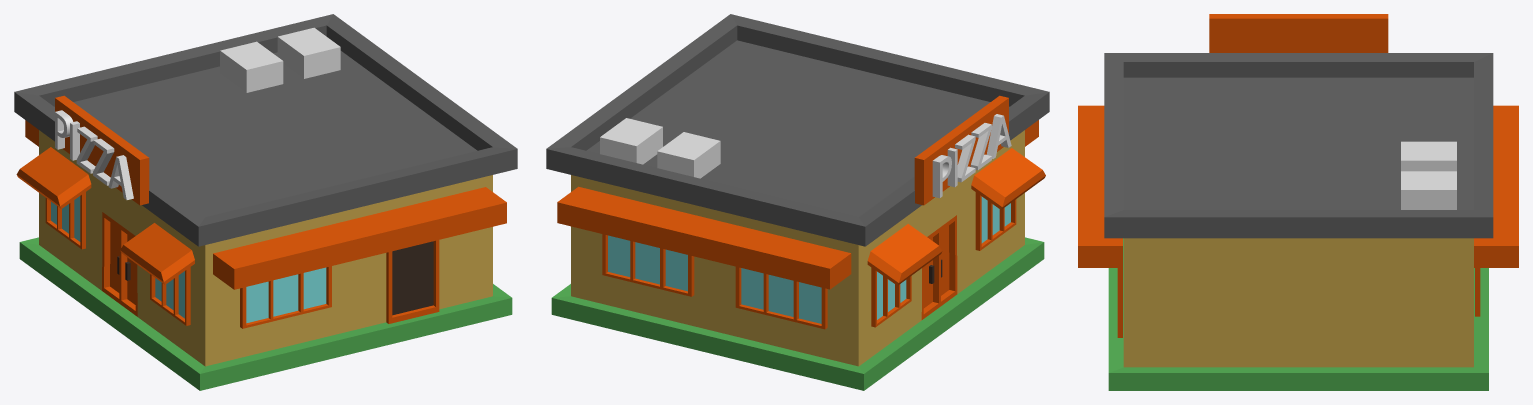
File: Pizza Shop FBX.fbx
The picture shows the model from 3 angles, left to right: view 1: azimuth 30°, elevation 25°; view 2: azimuth 150°, elevation 25°; view 3: azimuth 270°, elevation 25°; orthographic projection. The views are drawn at different scales.
Parts seen in each view (by area): view 1: Pizza_shop:pCube1; view 2: Pizza_shop:pCube1; view 3: Pizza_shop:pCube1.
Part boxes in pixels (x1,y1,x2,y2): Pizza_shop:pCube1: [14, 14, 517, 390]; Pizza_shop:pCube1: [546, 14, 1049, 390]; Pizza_shop:pCube1: [1078, 14, 1518, 390].
Bounding box in the file's own units: 7.57 × 4.28 × 8.15.
